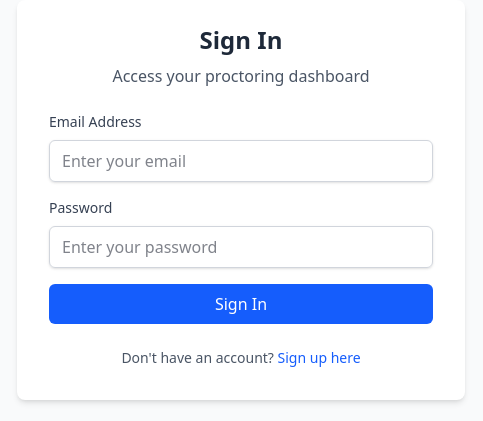
LoginForm › disables form during loading state
The width and height of the screenshot is (483, 421).
# Fill form
Type "test@example.com" into the field labelled "Email Address" at [241, 161], box [49,140,433,182]
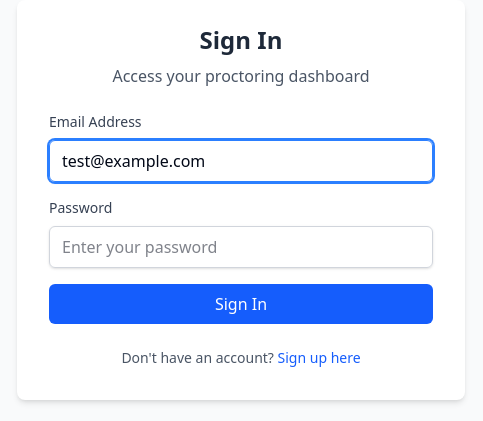
Type "password123" into the password field labelled "Password" at [241, 247], box [49,226,433,268]
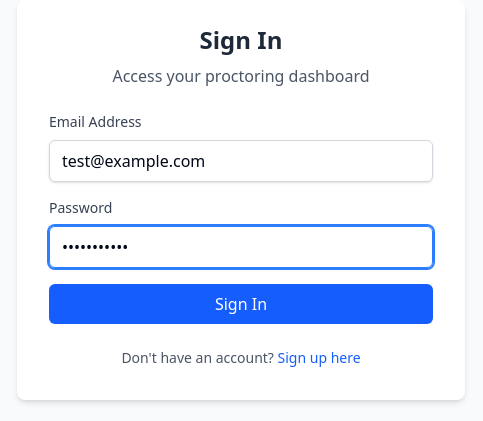
# Submit form
Click the button "Sign In" at [241, 304], box [49,284,433,324]
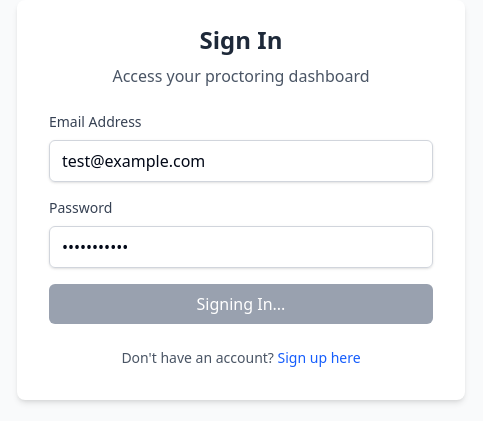
Expected: the field labelled "Email Address" is disabled, [49,140,433,182]
Expected: the button "Signing In..." is disabled, [49,284,433,324]
